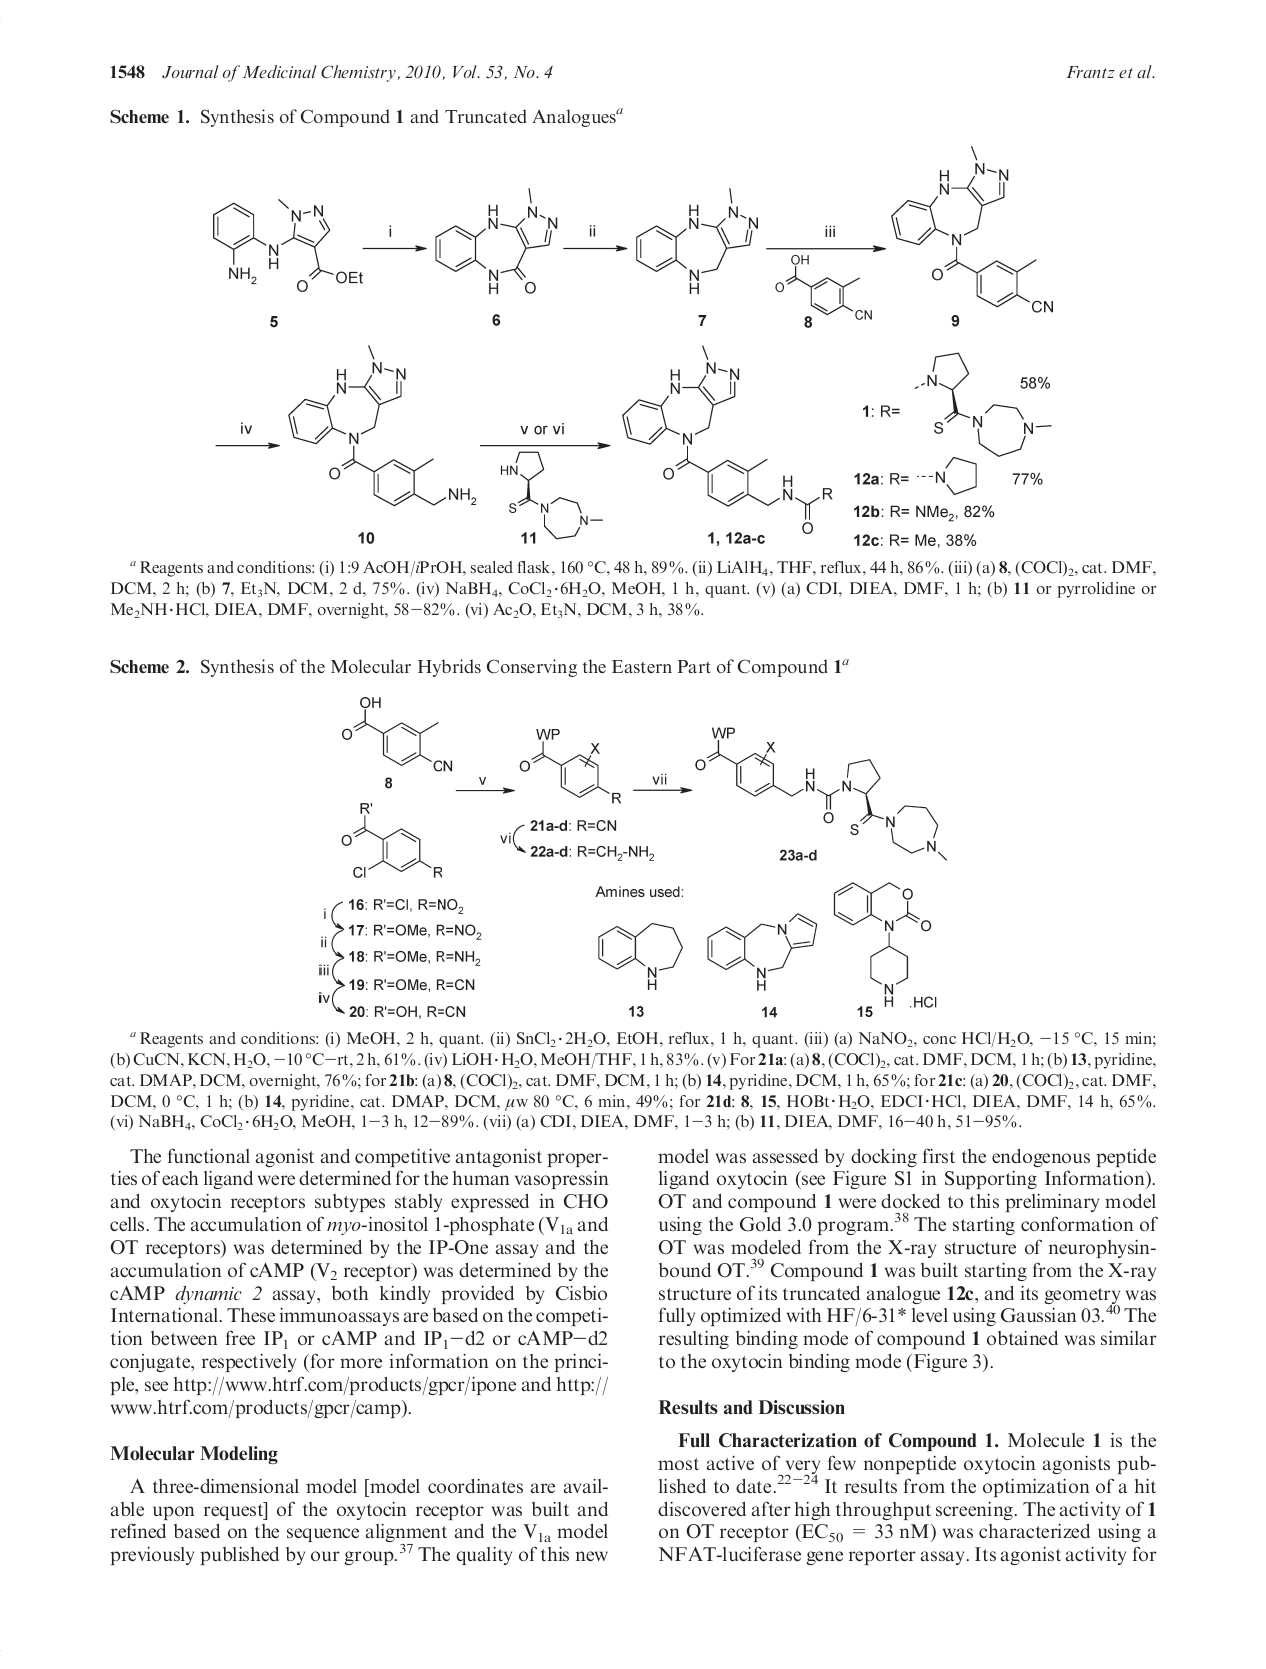exist_molecular: (621, 343, 835, 536), (694, 723, 951, 866), (287, 342, 477, 507), (891, 145, 1056, 314), (911, 350, 1055, 457), (211, 195, 366, 293), (634, 184, 761, 297), (831, 879, 934, 1012), (434, 188, 559, 294), (499, 449, 604, 540), (339, 694, 456, 775), (705, 910, 819, 992), (519, 723, 622, 809), (775, 251, 874, 321), (596, 922, 685, 991), (915, 453, 980, 497)
